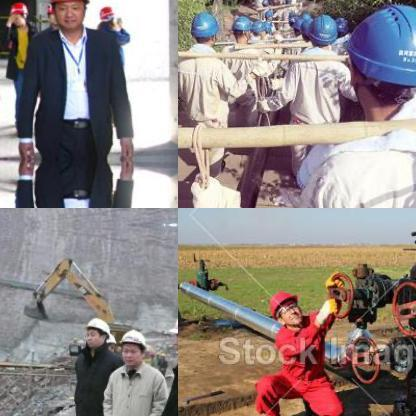Helmet: (340, 0, 415, 112), (264, 286, 306, 330), (46, 0, 90, 32), (116, 328, 146, 366), (190, 7, 218, 44), (82, 313, 110, 349), (307, 12, 337, 44), (6, 0, 34, 28), (94, 5, 118, 29), (229, 12, 249, 40), (298, 14, 314, 38), (249, 16, 263, 36)
